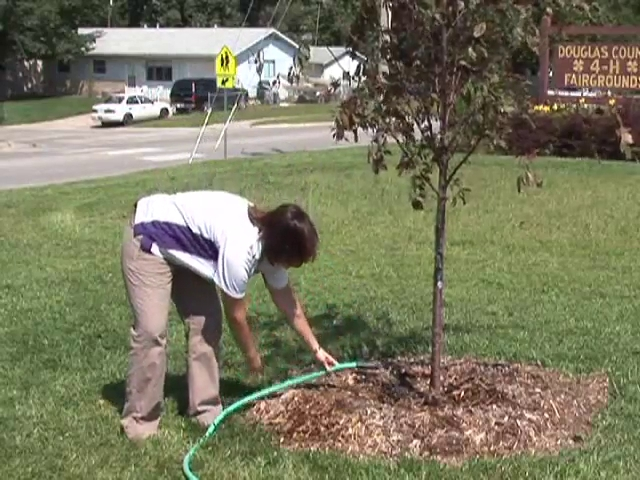person: (121, 190, 340, 441)
